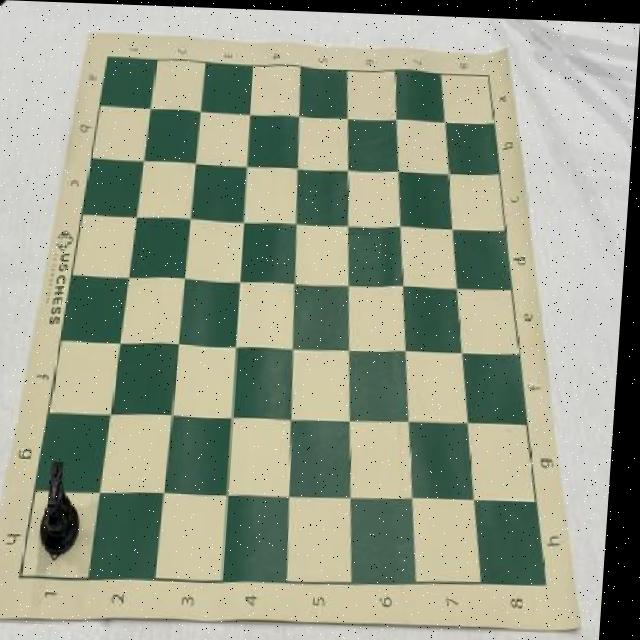black-king: (46, 460, 91, 557)
